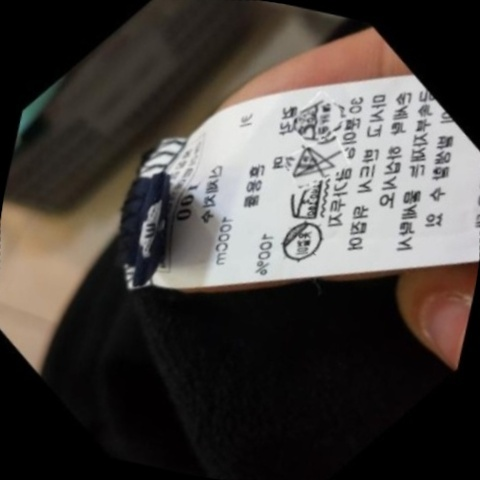hand_wash: (284, 85, 348, 151)
iron_medium: (276, 171, 332, 228)
line_dry_in_shade: (265, 206, 336, 276)
non_chlorine_bleach: (284, 135, 345, 191)
